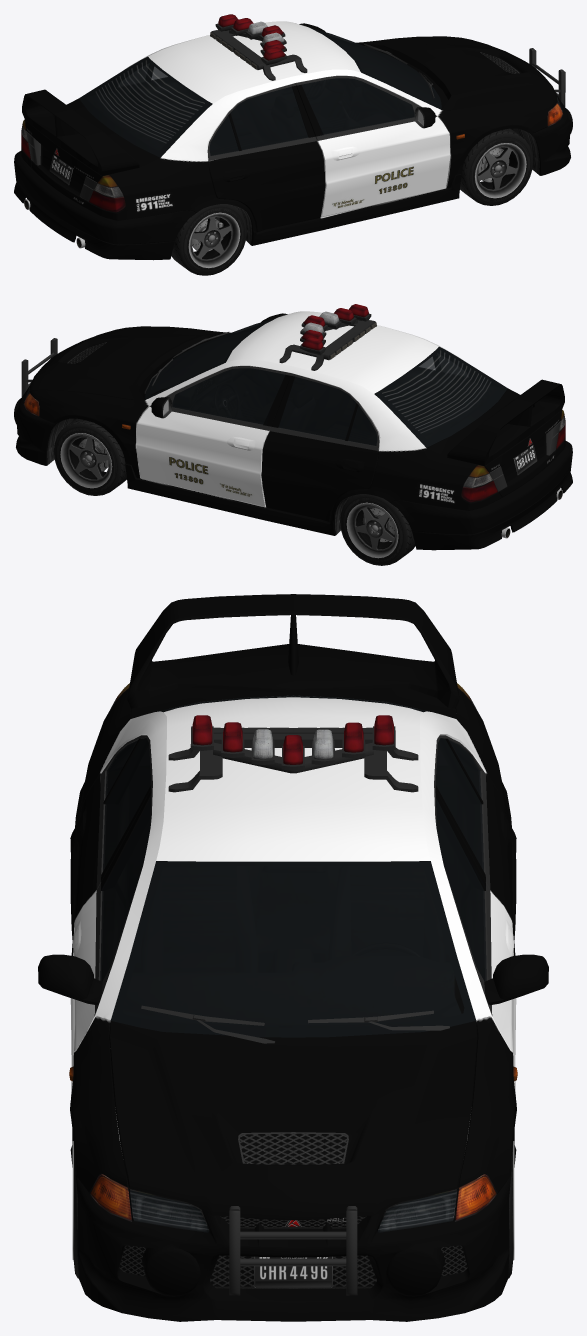
Rendered from car3dcop.glb.
The picture shows the model from 3 angles, top to bottom: view 1: azimuth 30°, elevation 25°; view 2: azimuth 150°, elevation 25°; view 3: azimuth 270°, elevation 25°; orthographic projection. The views are drawn at different scales.
Visible parts, largest first — view 1: Thunderbolt96_Body_thunderbolt96_body_0, Thunderbolt96_Interior_UCB_Interiors_2_0, Thunderbolt96_Hood_thunderbolt96_body_0, Thunderbolt96_Rear_Glass_UCB_Lights_and_Glass_Transperent_0, Thunderbolt96_Bumper_rear_thunderbolt96_body_0, Thunderbolt96_Bottom_UCB_BOTTOM_0, Thunderbolt96_Glass_UCB_Lights_and_Glass_Transperent_0, Thunderbolt96_Spoiler_thunderbolt96_body_0, Thunderbolt96_WheelStock_FR_RB1c_Tire_1k_0, Thunderbolt96_Glass_Passenger_UCB_Lights_and_Glass_Transpere, Thunderbolt96_WheelStock_RR_RB1c_Tire_1k_0, Thunderbolt96_Trunk_door_thunderbolt96_body_0 (+9 smaller); view 2: Thunderbolt96_Body_thunderbolt96_body_0, Thunderbolt96_Interior_UCB_Interiors_2_0, Thunderbolt96_Hood_thunderbolt96_body_0, Thunderbolt96_Rear_Glass_UCB_Lights_and_Glass_Transperent_0, Thunderbolt96_Bumper_rear_thunderbolt96_body_0, Thunderbolt96_Bottom_UCB_BOTTOM_0, Thunderbolt96_Glass_UCB_Lights_and_Glass_Transperent_0, Thunderbolt96_Spoiler_thunderbolt96_body_0, Thunderbolt96_Glass_Driver_UCB_Lights_and_Glass_Transperent_, Thunderbolt96_WheelStock_FL_RB1c_Tire_1k_0, Thunderbolt96_WheelStock_RL_RB1c_Tire_1k_0, Thunderbolt96_Trunk_door_thunderbolt96_body_0 (+10 smaller); view 3: Thunderbolt96_Body_thunderbolt96_body_0, Thunderbolt96_Interior_UCB_Interiors_2_0, Thunderbolt96_Hood_thunderbolt96_body_0, Thunderbolt96_Windshield_UCB_Lights_and_Glass_Transperent_0, Thunderbolt96_Bumper_Front_thunderbolt96_body_0, Thunderbolt96_Spoiler_thunderbolt96_body_0, Thunderbolt96_Bottom_UCB_BOTTOM_0, Thunderbolt96_Lightbar_UCB_Lights_and_Glass_0, Thunderbolt96_Glass_UCB_Lights_and_Glass_Transperent_0, Thunderbolt96_Headlights_UCB_Lights_and_Glass_0, Thunderbolt96_Bumper_Front_Misc_UCB_BOTTOM_0, Thunderbolt96_Headlight_Glass_UCB_Lights_and_Glass_Transpere (+7 smaller).
Part boxes in pixels (bbox=[...]): Thunderbolt96_Body_thunderbolt96_body_0: bbox=[21, 21, 557, 245]; Thunderbolt96_Interior_UCB_Interiors_2_0: bbox=[87, 32, 436, 154]; Thunderbolt96_Hood_thunderbolt96_body_0: bbox=[356, 36, 557, 109]; Thunderbolt96_Rear_Glass_UCB_Lights_and_Glass_Transperent_0: bbox=[79, 56, 212, 157]; Thunderbolt96_Bumper_rear_thunderbolt96_body_0: bbox=[14, 151, 195, 260]; Thunderbolt96_Bottom_UCB_BOTTOM_0: bbox=[24, 24, 539, 248]; Thunderbolt96_Glass_UCB_Lights_and_Glass_Transperent_0: bbox=[119, 64, 308, 155]; Thunderbolt96_Spoiler_thunderbolt96_body_0: bbox=[22, 89, 139, 175]; Thunderbolt96_WheelStock_FR_RB1c_Tire_1k_0: bbox=[460, 128, 533, 205]; Thunderbolt96_Glass_Passenger_UCB_Lights_and_Glass_Transpere: bbox=[301, 78, 414, 134]; Thunderbolt96_WheelStock_RR_RB1c_Tire_1k_0: bbox=[171, 204, 246, 275]; Thunderbolt96_Trunk_door_thunderbolt96_body_0: bbox=[25, 98, 159, 207]; Thunderbolt96_Body_thunderbolt96_body_0: bbox=[29, 311, 565, 535]; Thunderbolt96_Interior_UCB_Interiors_2_0: bbox=[150, 321, 499, 444]; Thunderbolt96_Hood_thunderbolt96_body_0: bbox=[29, 326, 229, 400]; Thunderbolt96_Rear_Glass_UCB_Lights_and_Glass_Transperent_0: bbox=[374, 346, 507, 447]; Thunderbolt96_Bumper_rear_thunderbolt96_body_0: bbox=[391, 441, 572, 550]; Thunderbolt96_Bottom_UCB_BOTTOM_0: bbox=[47, 314, 562, 538]; Thunderbolt96_Glass_UCB_Lights_and_Glass_Transperent_0: bbox=[278, 354, 467, 445]; Thunderbolt96_Spoiler_thunderbolt96_body_0: bbox=[447, 379, 564, 465]; Thunderbolt96_Glass_Driver_UCB_Lights_and_Glass_Transperent_: bbox=[172, 368, 285, 424]; Thunderbolt96_WheelStock_FL_RB1c_Tire_1k_0: bbox=[53, 418, 126, 495]; Thunderbolt96_WheelStock_RL_RB1c_Tire_1k_0: bbox=[340, 494, 415, 565]; Thunderbolt96_Trunk_door_thunderbolt96_body_0: bbox=[427, 388, 561, 497]; Thunderbolt96_Body_thunderbolt96_body_0: bbox=[38, 688, 548, 1193]; Thunderbolt96_Interior_UCB_Interiors_2_0: bbox=[102, 739, 484, 1026]; Thunderbolt96_Hood_thunderbolt96_body_0: bbox=[109, 1021, 477, 1220]; Thunderbolt96_Windshield_UCB_Lights_and_Glass_Transperent_0: bbox=[110, 861, 476, 1037]; Thunderbolt96_Bumper_Front_thunderbolt96_body_0: bbox=[75, 1174, 511, 1321]; Thunderbolt96_Spoiler_thunderbolt96_body_0: bbox=[127, 594, 459, 708]; Thunderbolt96_Bottom_UCB_BOTTOM_0: bbox=[42, 697, 544, 1045]; Thunderbolt96_Lightbar_UCB_Lights_and_Glass_0: bbox=[168, 715, 418, 792]; Thunderbolt96_Glass_UCB_Lights_and_Glass_Transperent_0: bbox=[103, 738, 483, 871]; Thunderbolt96_Headlights_UCB_Lights_and_Glass_0: bbox=[128, 1188, 458, 1233]; Thunderbolt96_Bumper_Front_Misc_UCB_BOTTOM_0: bbox=[119, 1216, 467, 1288]; Thunderbolt96_Headlight_Glass_UCB_Lights_and_Glass_Transpere: bbox=[130, 1190, 456, 1232].
Size of the model in its own units: 4.41 by 1.52 by 1.95.
8 materials, 8 textured.
